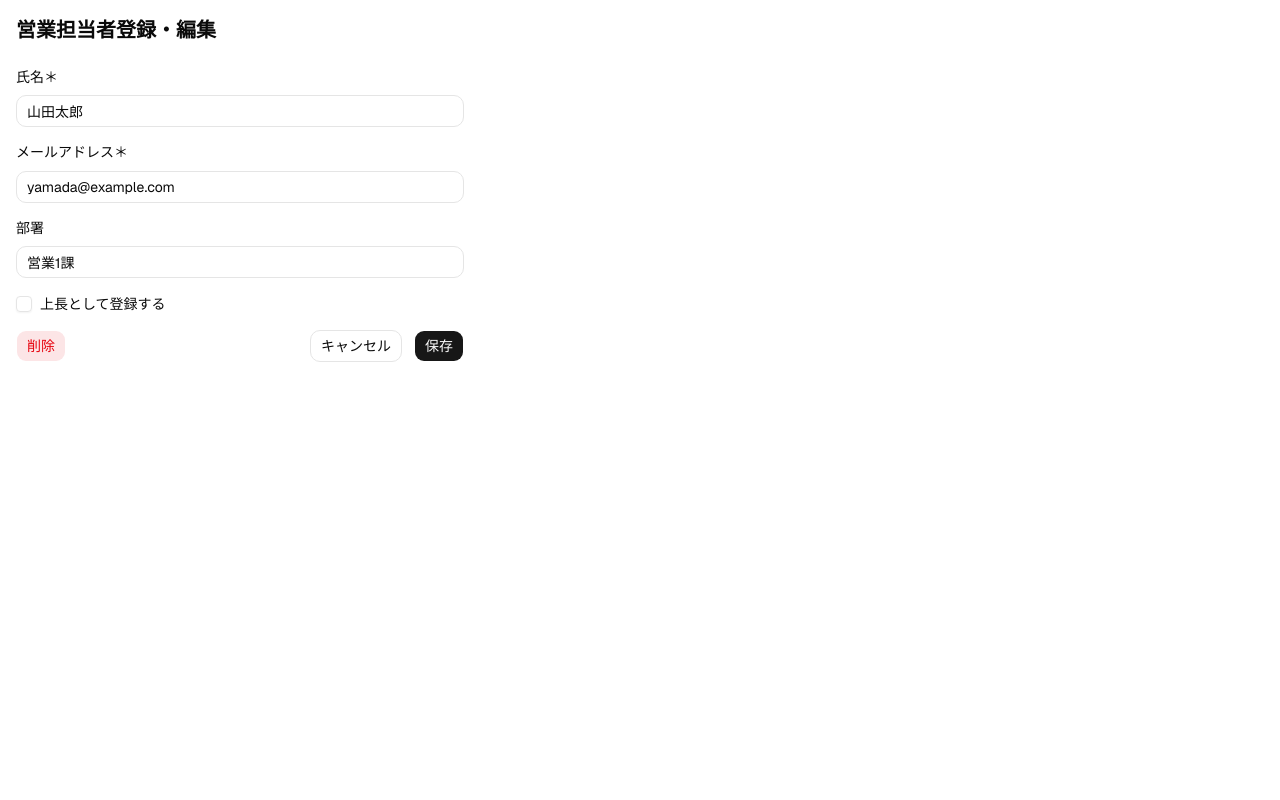
Test: SalesPersonForm (edit mode) › shows the API's conflict message and does not navigate when deletion is blocked (TC-SCR07-04)
The image size is (1280, 800).
Expected: the field labelled "氏名＊" is shown, [16,95,464,127]
Click the button "削除".
click(41, 346)  # box [16,330,66,362]
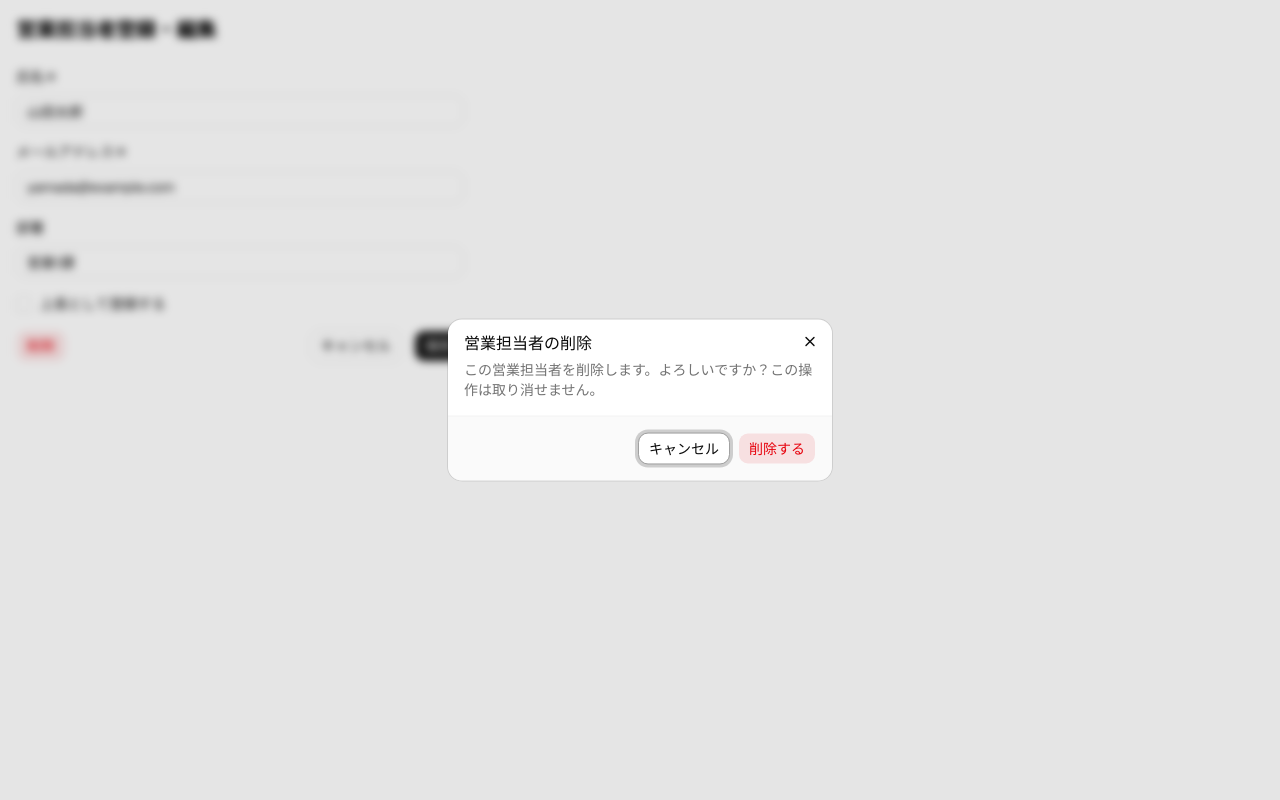
Click the button "削除する".
click(777, 448)  # box [738,432,816,464]
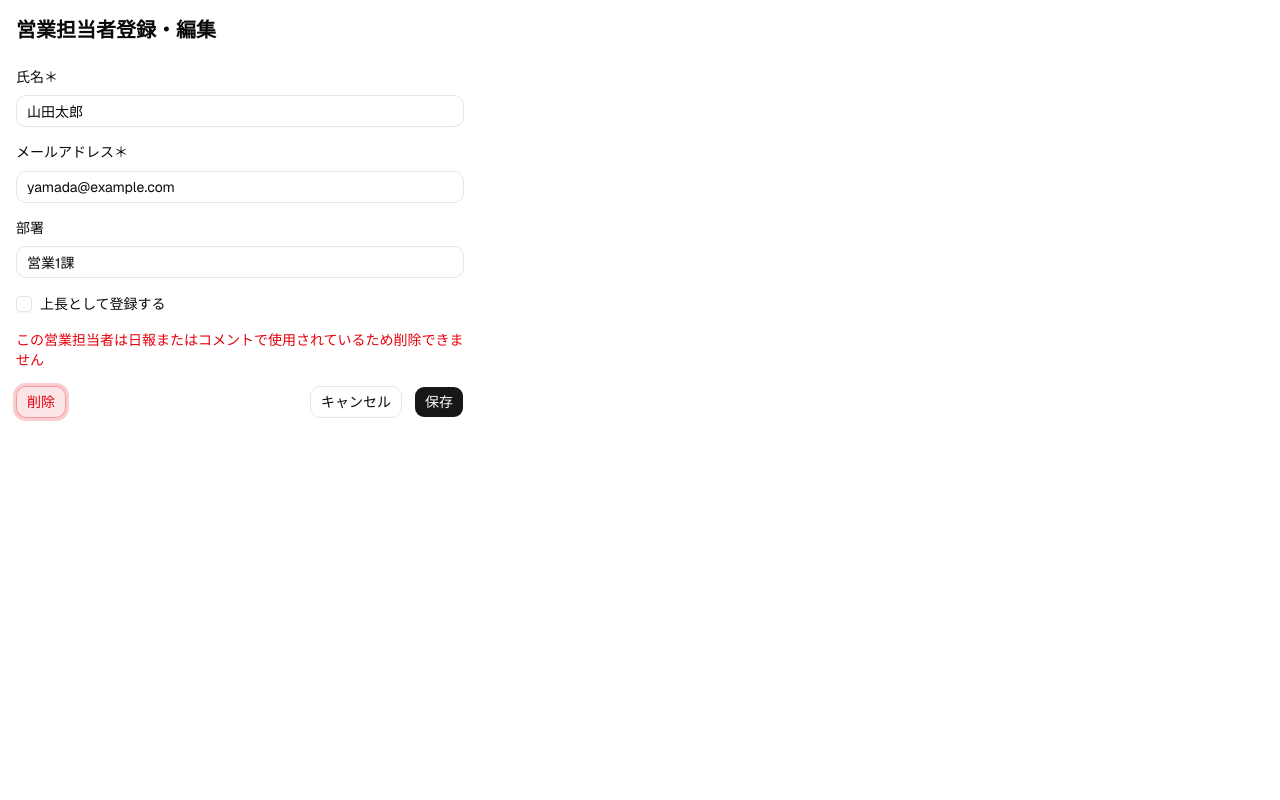
Now the text "この営業担当者は日報またはコメントで使用されているため削除できません" is shown, box [16,330,464,370]
